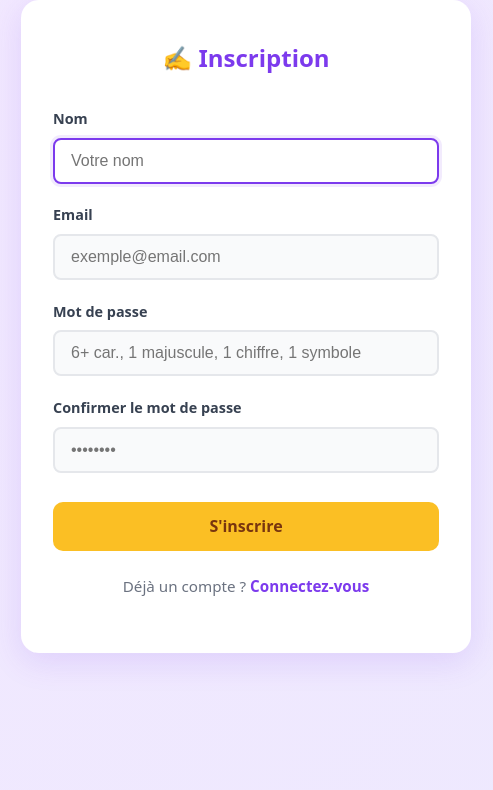
Inscription — Validation du champ Nom › doit afficher une erreur si le nom fait moins de 3 caractères
Step 1. Type "Al" into the field with placeholder "Votre nom" → [246, 161], box [53,138,439,184]
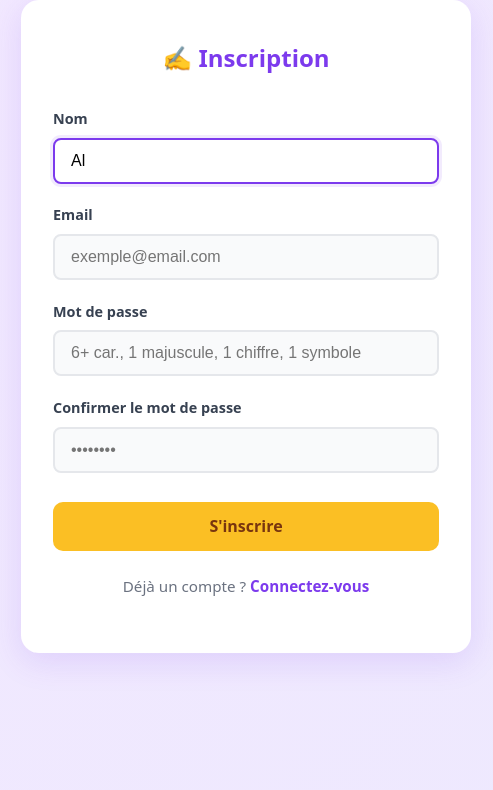
Step 2. Click the button "S'inscrire" → [246, 526], box [53,502,439,551]
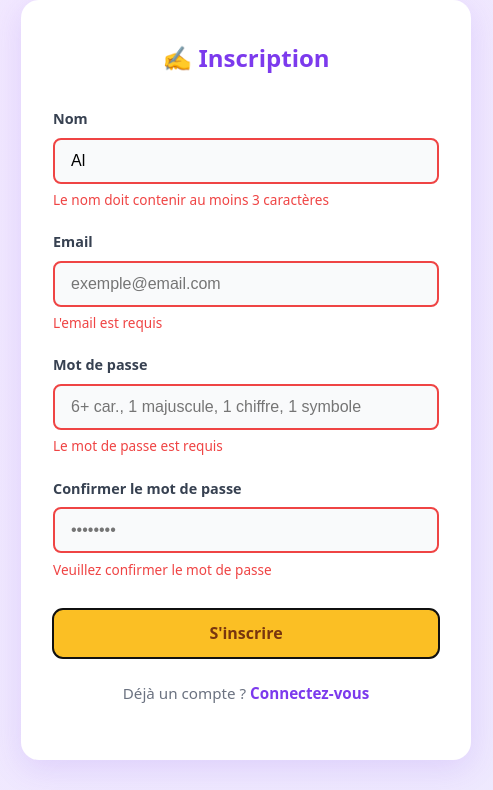
Expected: the text "Le nom doit contenir au moins 3 caractères" is shown, [53,190,329,209]
